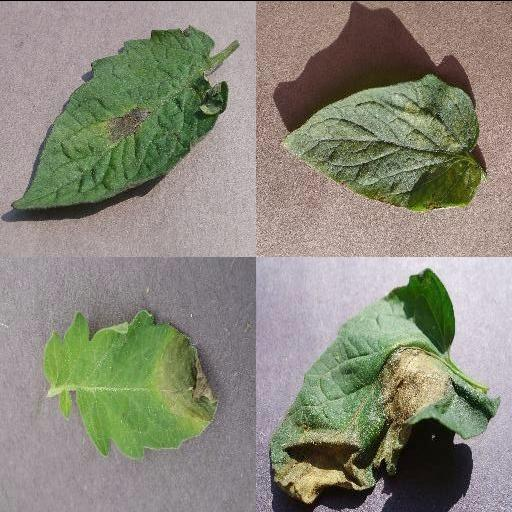Late Blight: (266, 267, 502, 503), (9, 24, 229, 210), (39, 309, 221, 457)
Spider Mites: (280, 74, 480, 210)
